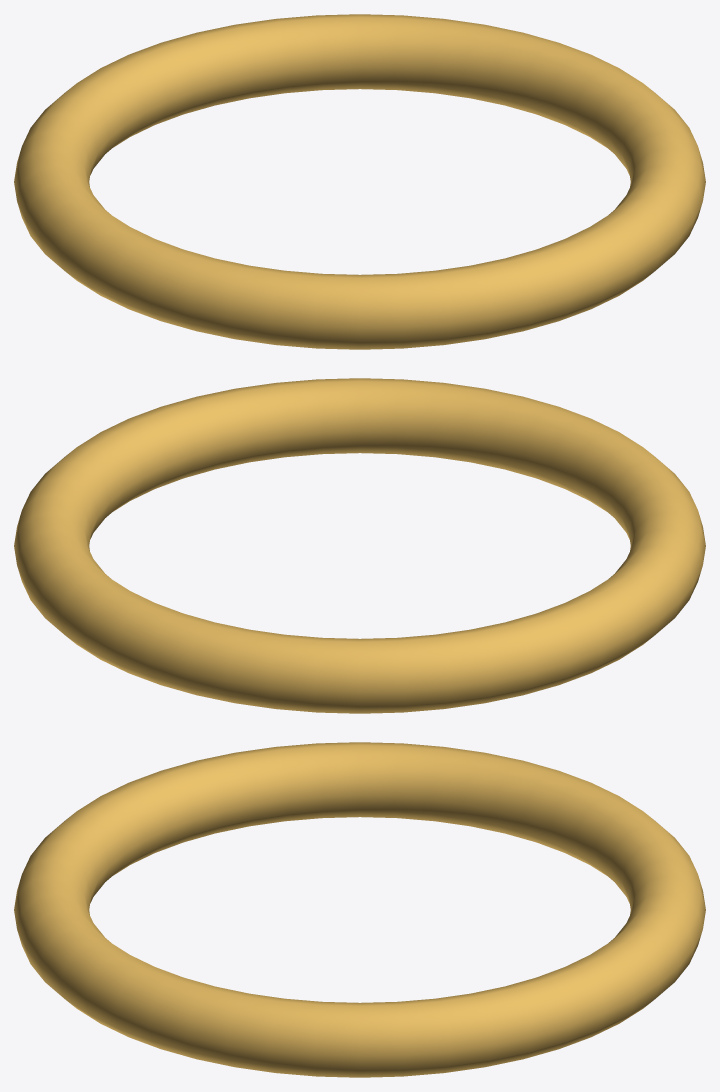
File: ring.fbx
3 views of the same model, one above another, from view 1: azimuth 30°, elevation 25°; view 2: azimuth 150°, elevation 25°; view 3: azimuth 270°, elevation 25° (orthographic).
Parts seen in each view (by area): view 1: ring; view 2: ring; view 3: ring.
Boxes of the visible parts, <box> form: ring: <box>14,14,705,349</box>; ring: <box>14,378,705,713</box>; ring: <box>14,742,705,1077</box>.
Size of the model in its own units: 92 by 10 by 92.
